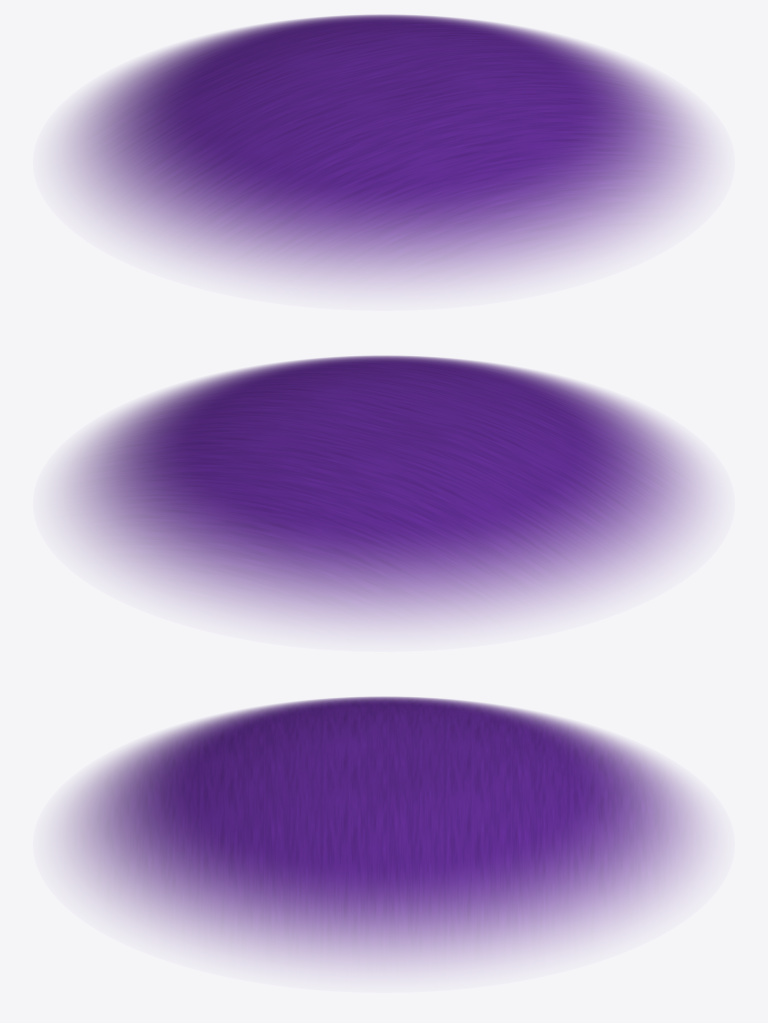
File: piso_reflejo_magenta.glb
The picture shows the model from 3 angles, top to bottom: view 1: azimuth 30°, elevation 25°; view 2: azimuth 150°, elevation 25°; view 3: azimuth 270°, elevation 25°; orthographic projection.
Parts seen in each view (by area): view 1: piso_curvo; view 2: piso_curvo; view 3: piso_curvo.
Part boxes in pixels (<box>): piso_curvo: <box>59,14,708,288</box>; piso_curvo: <box>59,355,708,629</box>; piso_curvo: <box>59,696,708,970</box>.
Size of the model in its own units: 120 by 16 by 120.
Materials: 1 (1 with a texture image).
